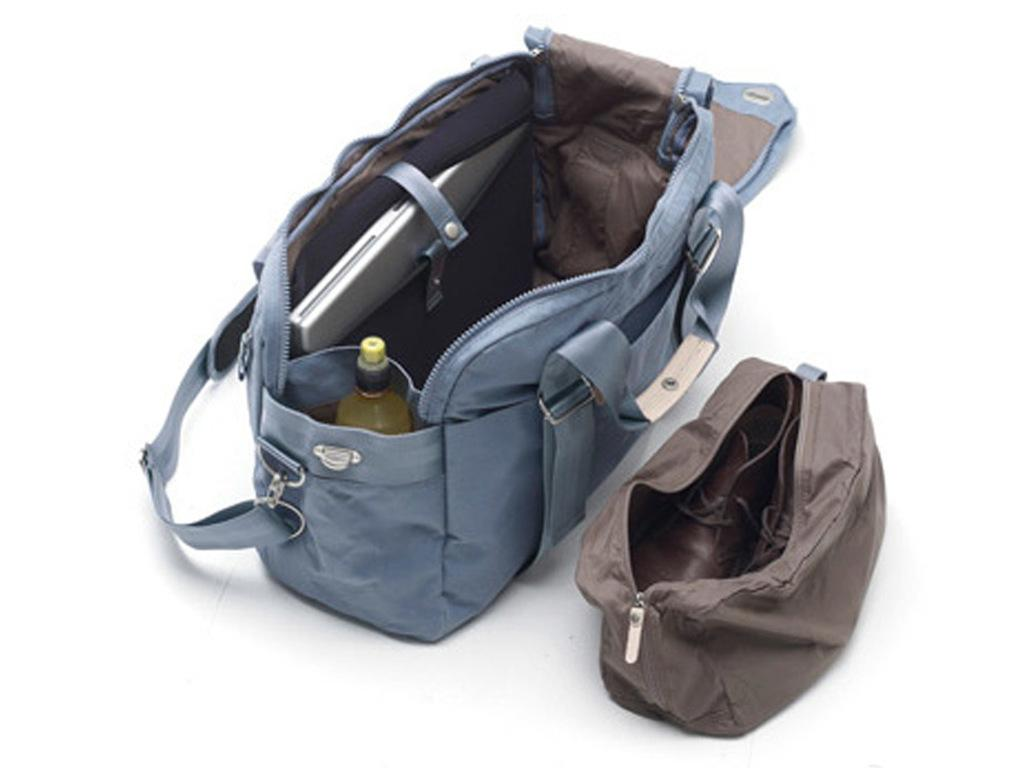Luggage-and-bags: (135, 23, 803, 643), (574, 359, 885, 741)
